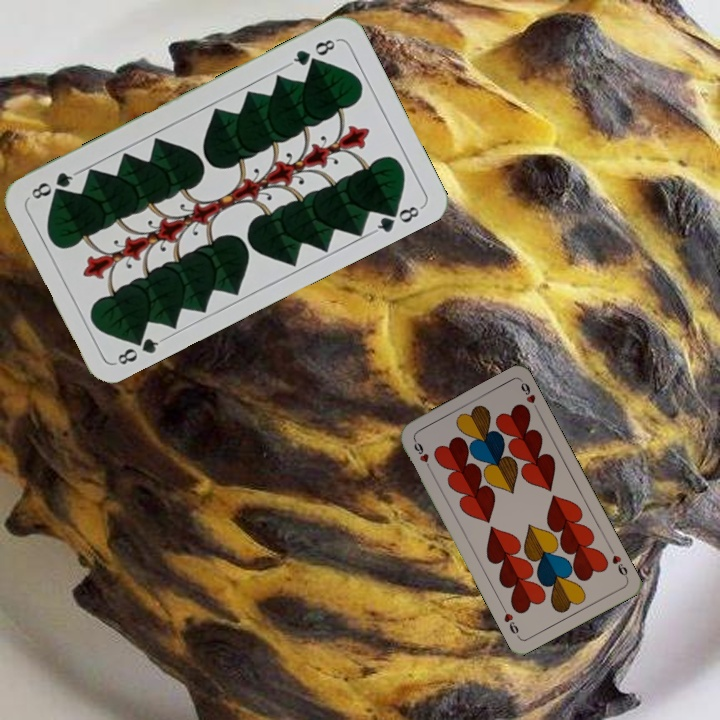G8: (113, 329, 167, 368), (285, 35, 340, 69)
H9: (409, 435, 434, 473), (606, 544, 630, 582)
